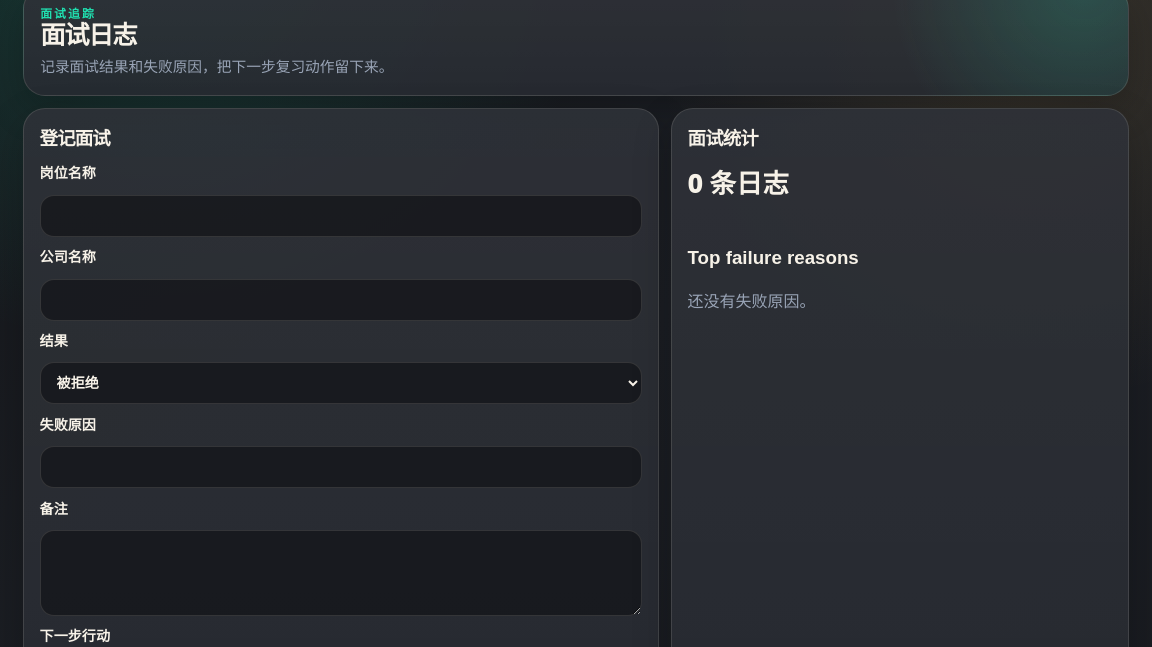
Scenario: InterviewLogManager › reports refresh failures after a successful save
Type "Backend Intern" into the field labelled "岗位名称" at [341, 216], box [40,195,642,237]
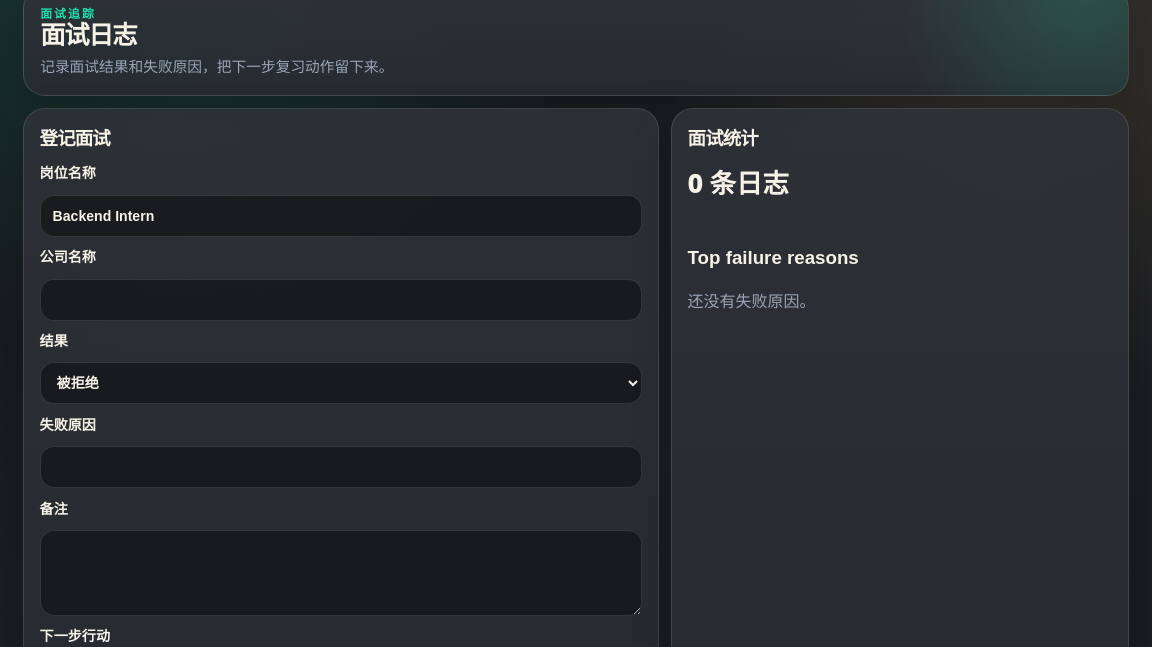
Type "Acme" into the field labelled "公司名称" at [341, 300], box [40,279,642,321]
(page scrolled)
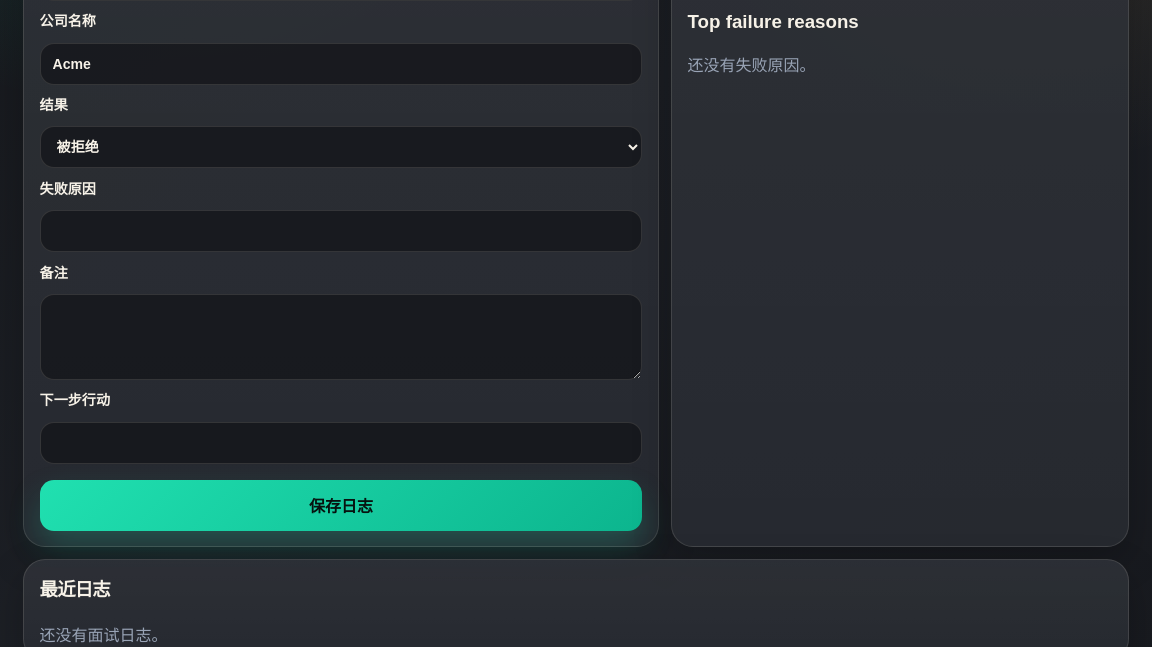
Click the button "保存日志" at [341, 505], box [40,480,642,531]
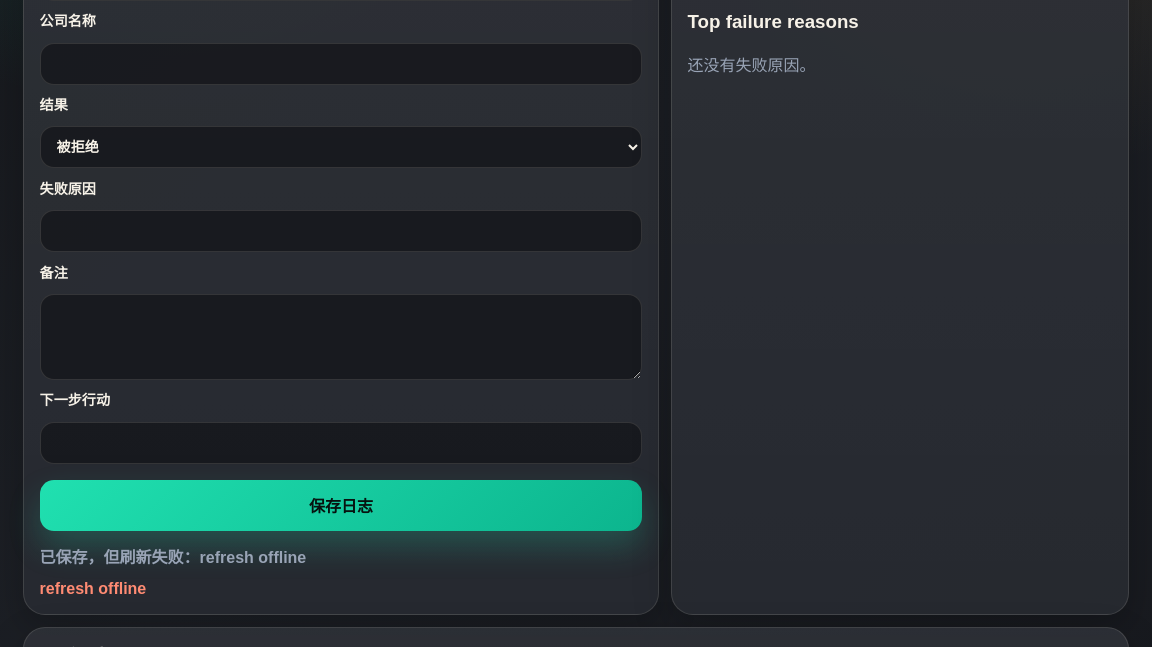
Expected: the text "已保存，但刷新失败：refresh offline" is shown, [40,549,306,566]
